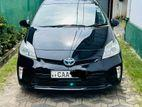car: (18, 0, 122, 96)
